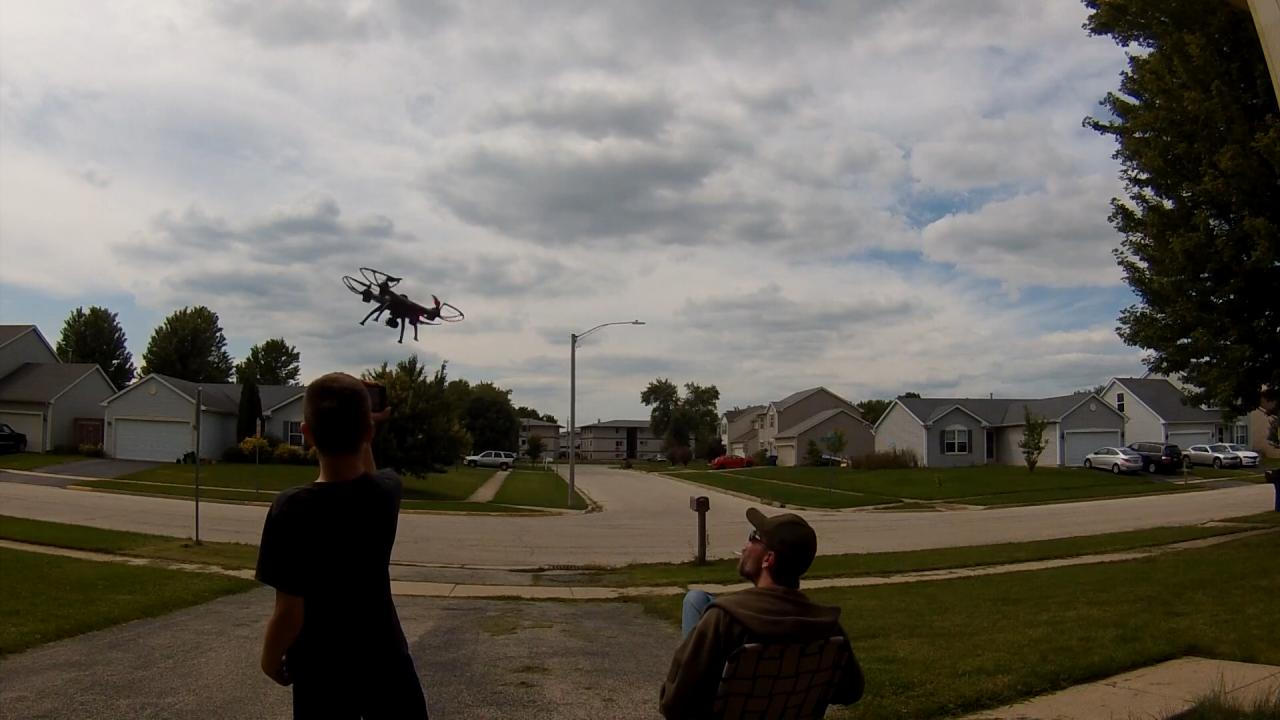Drone: (330, 258, 476, 354)
